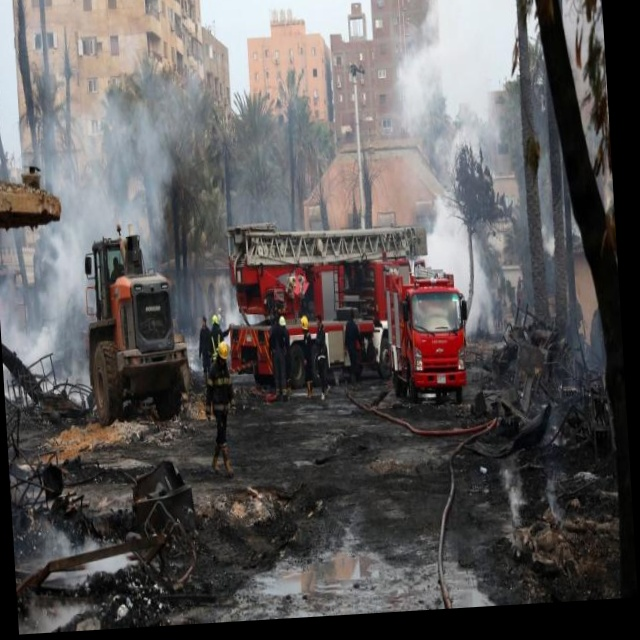Fire-truck: (369, 242, 493, 419)
person: (201, 340, 240, 479), (266, 313, 290, 403), (341, 307, 363, 392), (312, 313, 331, 400), (278, 315, 294, 395), (300, 315, 315, 400), (109, 256, 125, 283)
